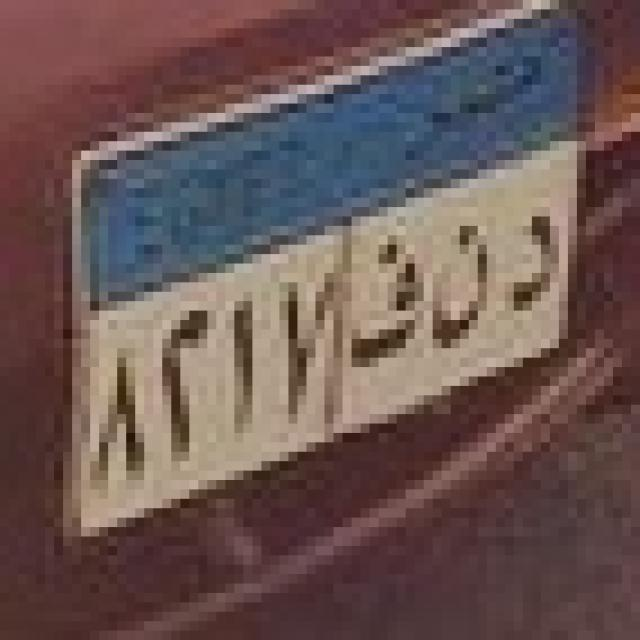1: (230, 286, 270, 441)
2: (158, 294, 219, 466)
7: (276, 276, 330, 419)
8: (96, 320, 154, 490)
F: (362, 228, 423, 370)
Noon: (429, 214, 496, 356)
daal: (504, 196, 578, 330)
